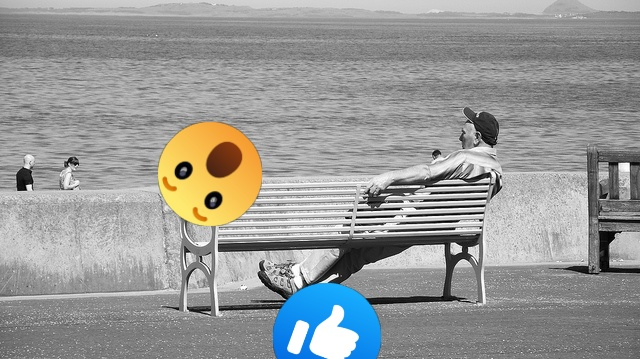like: (273, 283, 381, 359)
wow: (158, 122, 262, 226)
